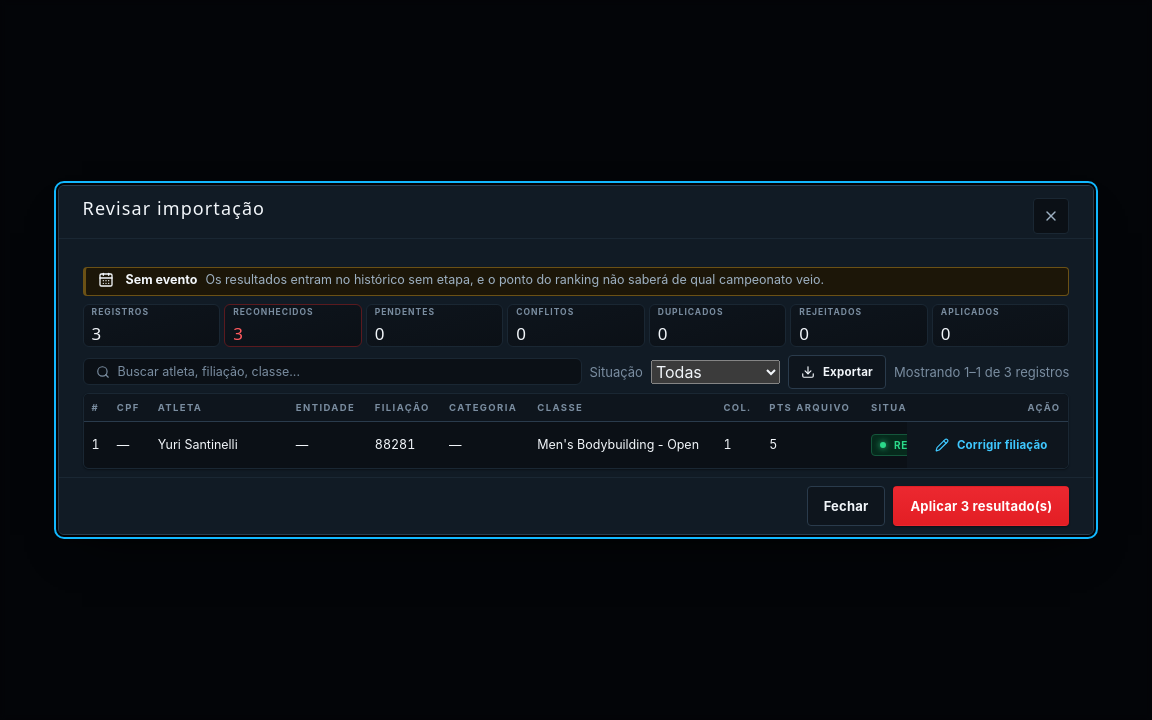
Test: B6 — a confirmação diz o destino da publicação › sem evento, a confirmação avisa que o resultado ficará sem etapa
Step 1. Click the button "Aplicar 3 resultado(s)" → (981, 506), box x1=893 y1=486 x2=1069 y2=526
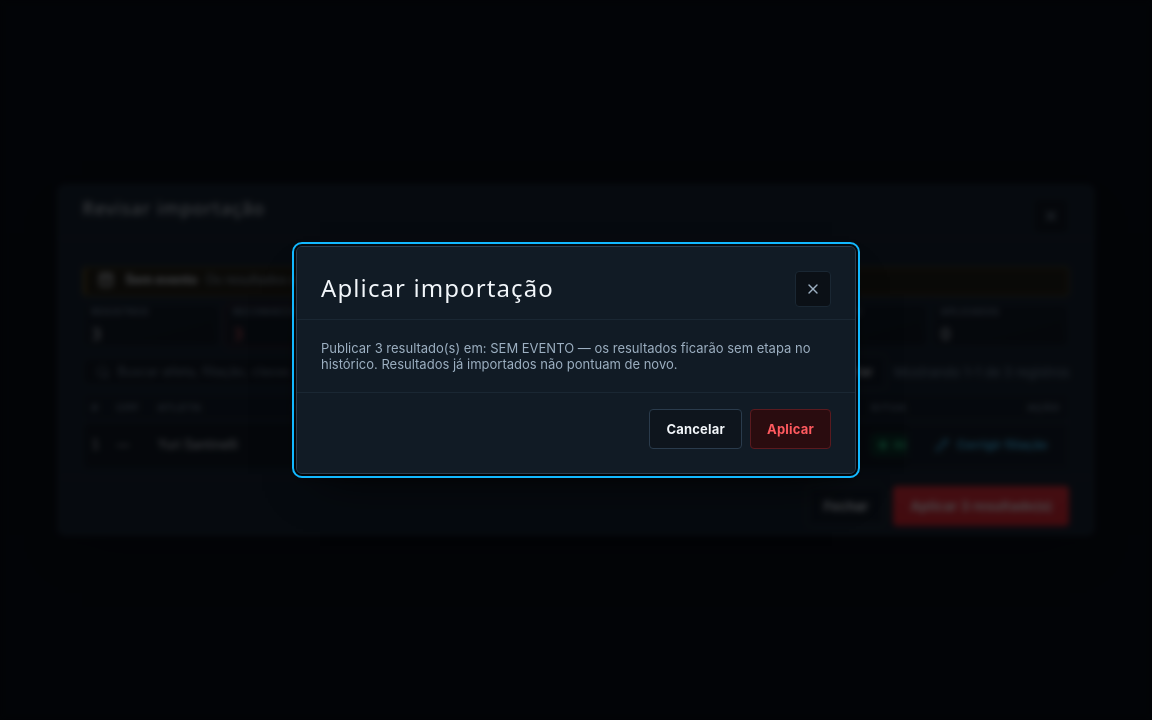
Check: the dialog "Aplicar importação" shows "SEM EVENTO", box x1=321 y1=340 x2=810 y2=372
